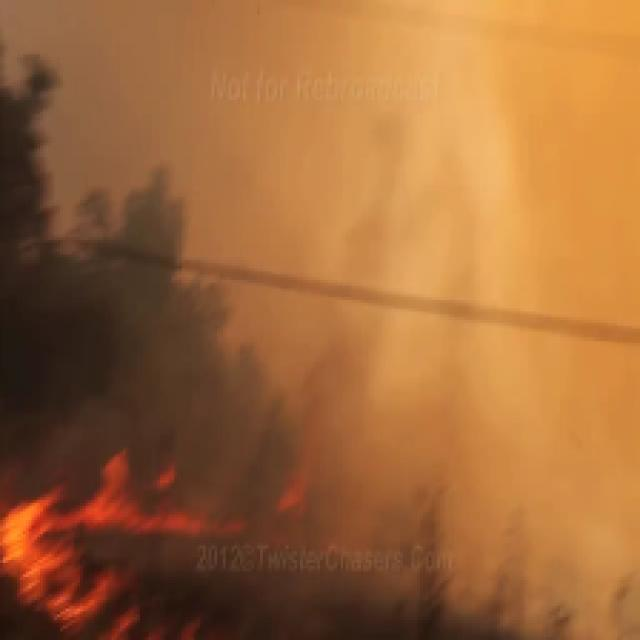Fire: (14, 448, 286, 623)
Smoke: (322, 114, 538, 420)
